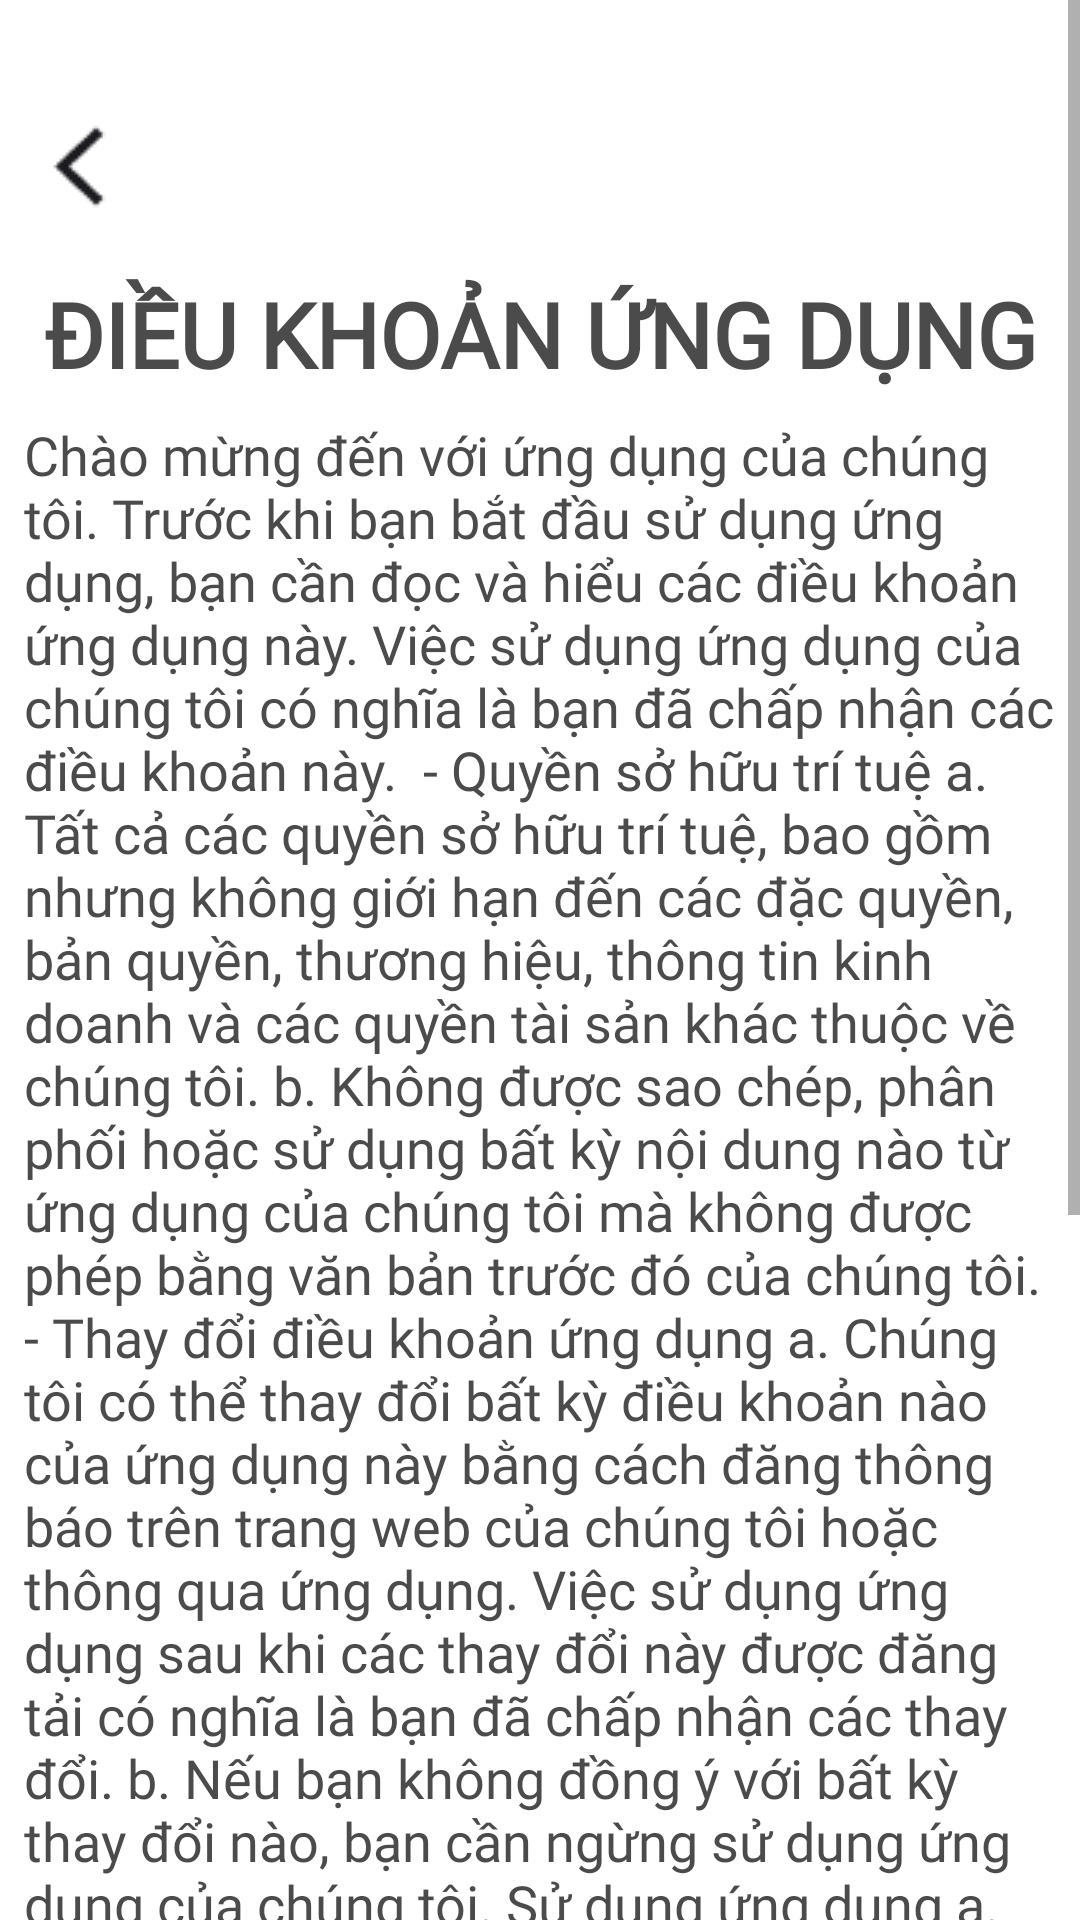

Point at icon controls on the screen. Image size 1080x1920, points as (x=x, y=y).
arrow back: (x=78, y=166)
